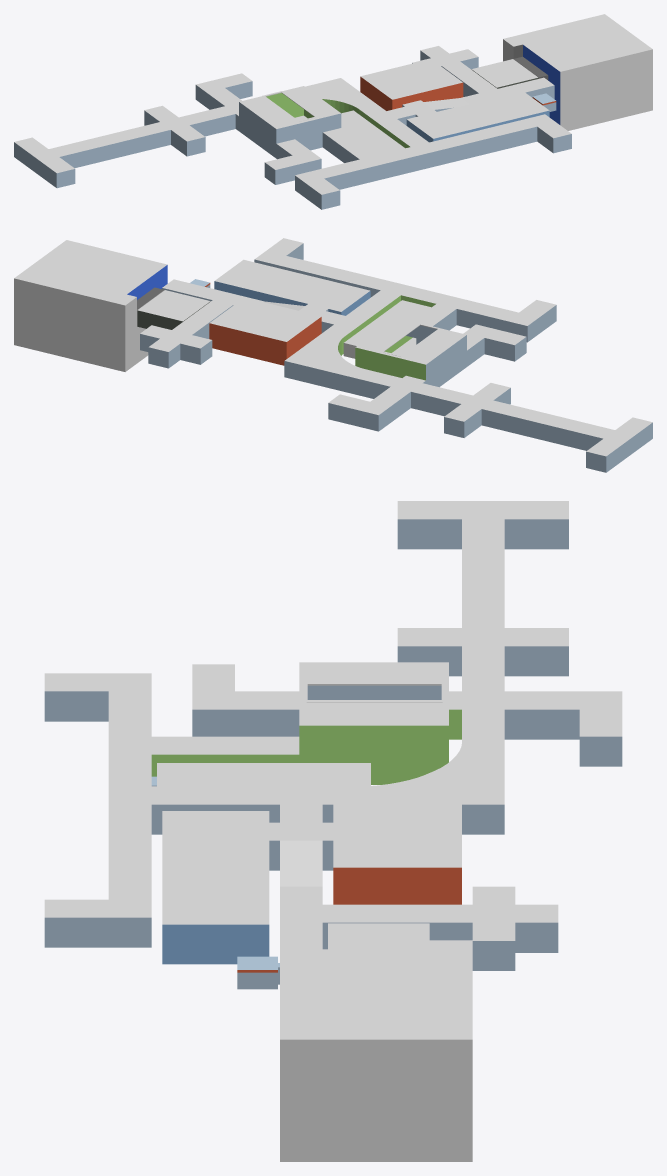
The model's file is LVL1.0.fbx.
3 renders of one model, top to bottom at view 1: azimuth 30°, elevation 25°; view 2: azimuth 150°, elevation 25°; view 3: azimuth 270°, elevation 25°, orthographic. The views are drawn at different scales.
Visible parts, largest first — view 1: Cube; view 2: Cube; view 3: Cube.
Boxes of the visible parts, x1=… form: Cube: x1=14, y1=14, x2=652, y2=209; Cube: x1=14, y1=238, x2=652, y2=472; Cube: x1=44, y1=501, x2=622, y2=1161.
Size of the model in its own units: 12229 by 1430 by 5400.
